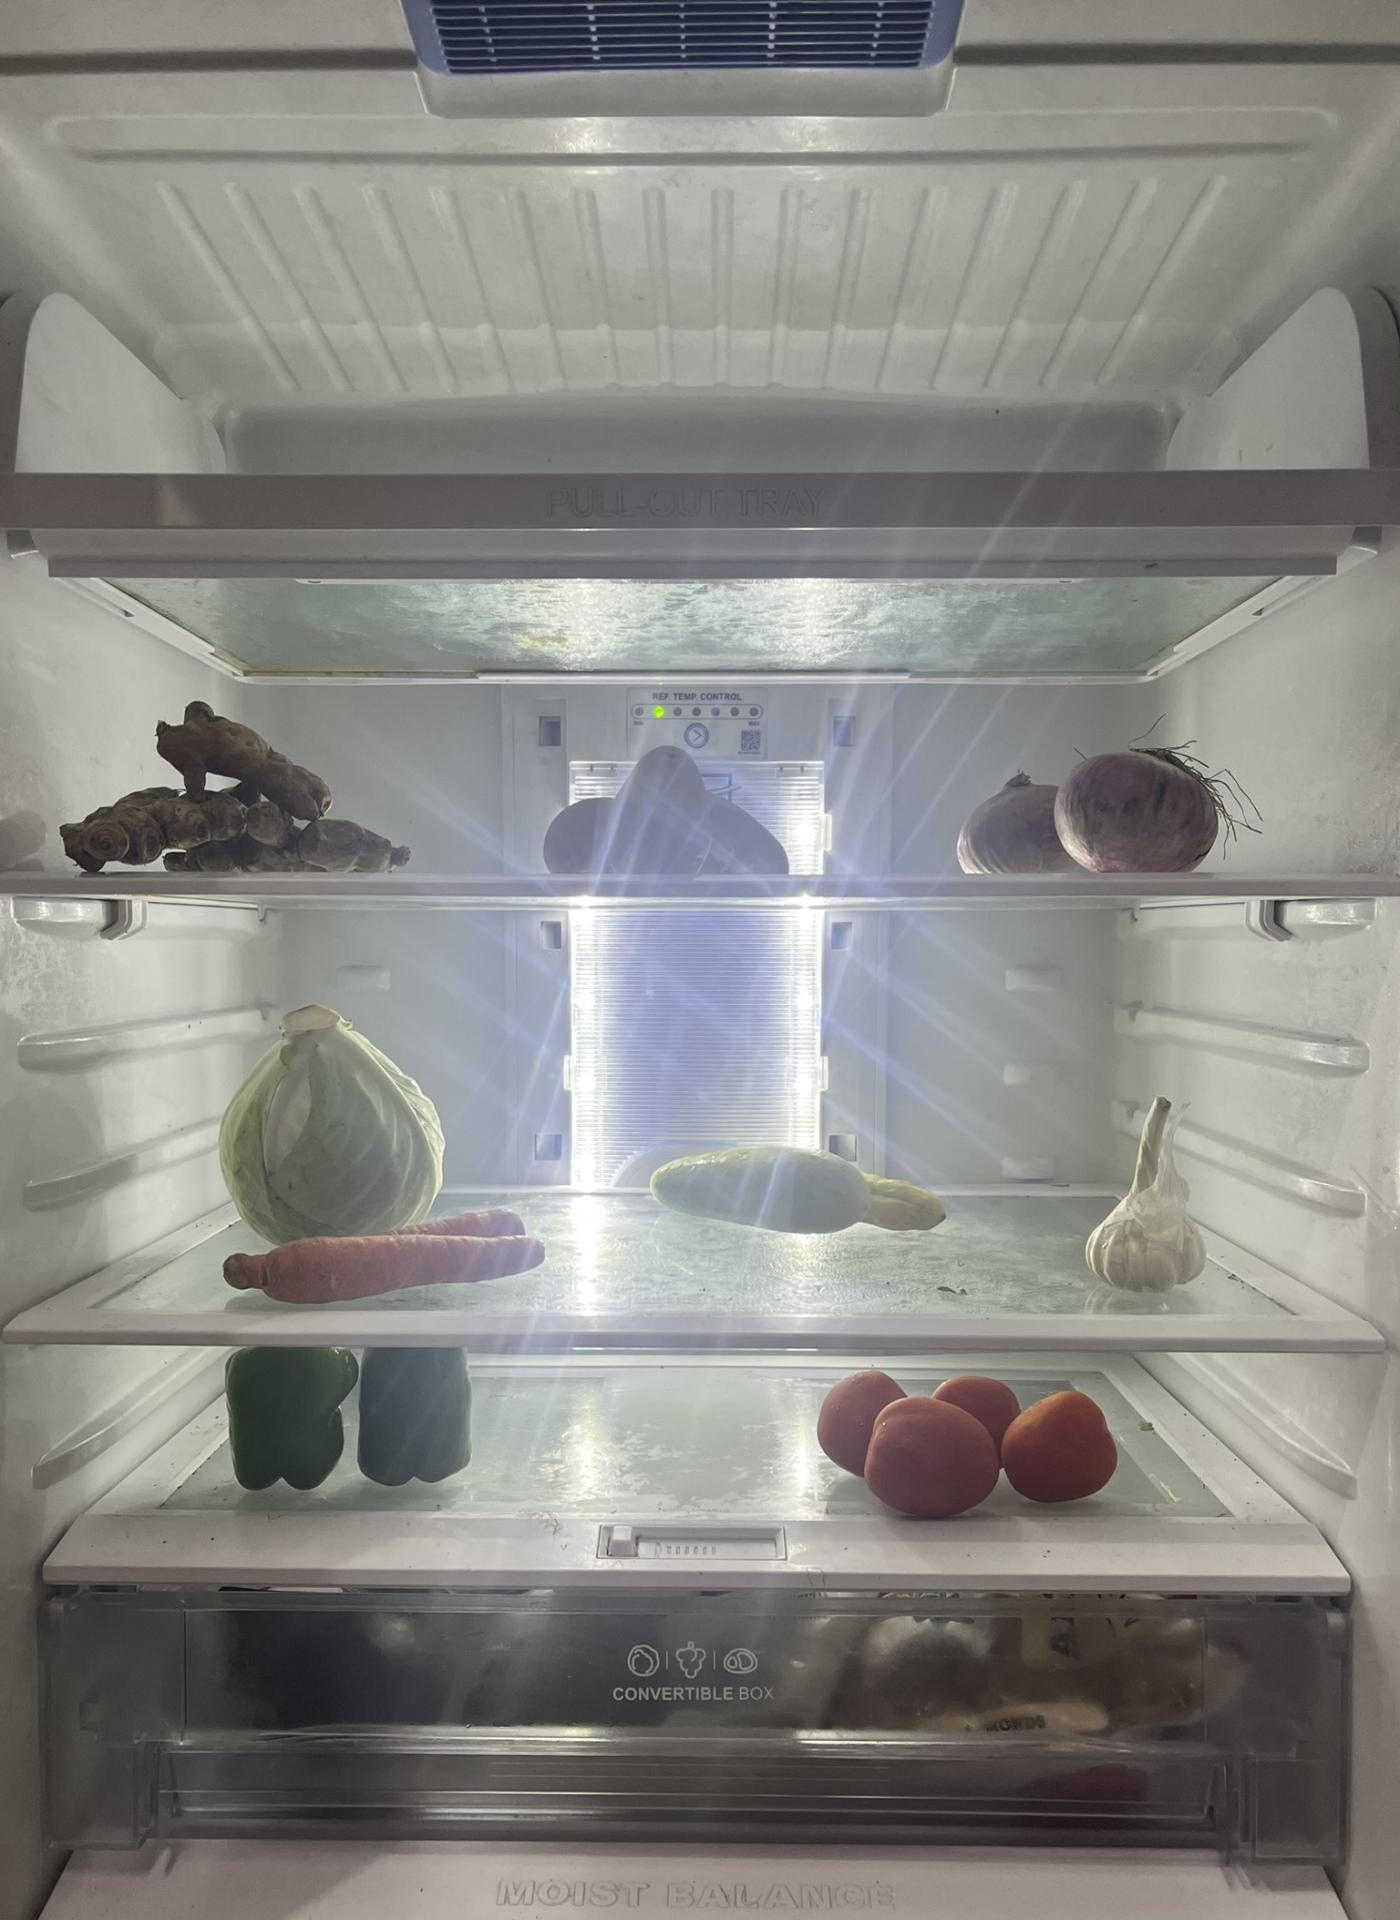cabbage: (221, 990, 441, 1230)
capsicum: (230, 1348, 468, 1488)
cucumber: (653, 1149, 951, 1240)
garlic: (1100, 1094, 1202, 1297)
ginger: (75, 686, 407, 884)
onion: (959, 733, 1221, 877)
tomato: (822, 1357, 1123, 1516)
